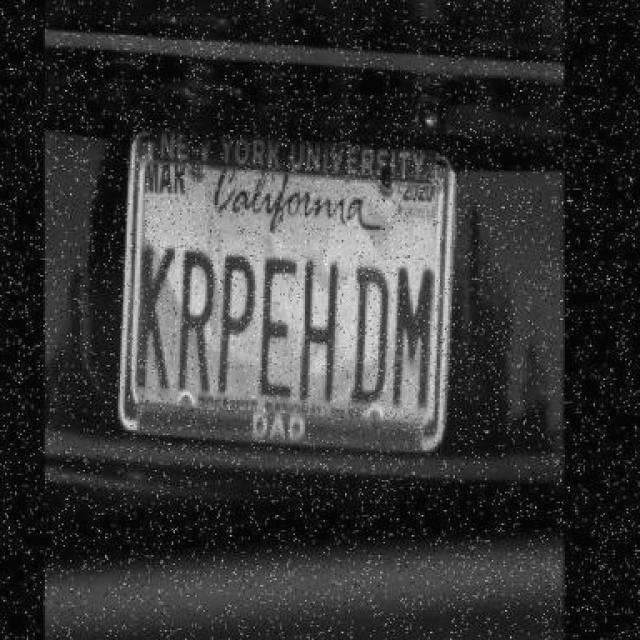licenseplate: (124, 128, 449, 459)
